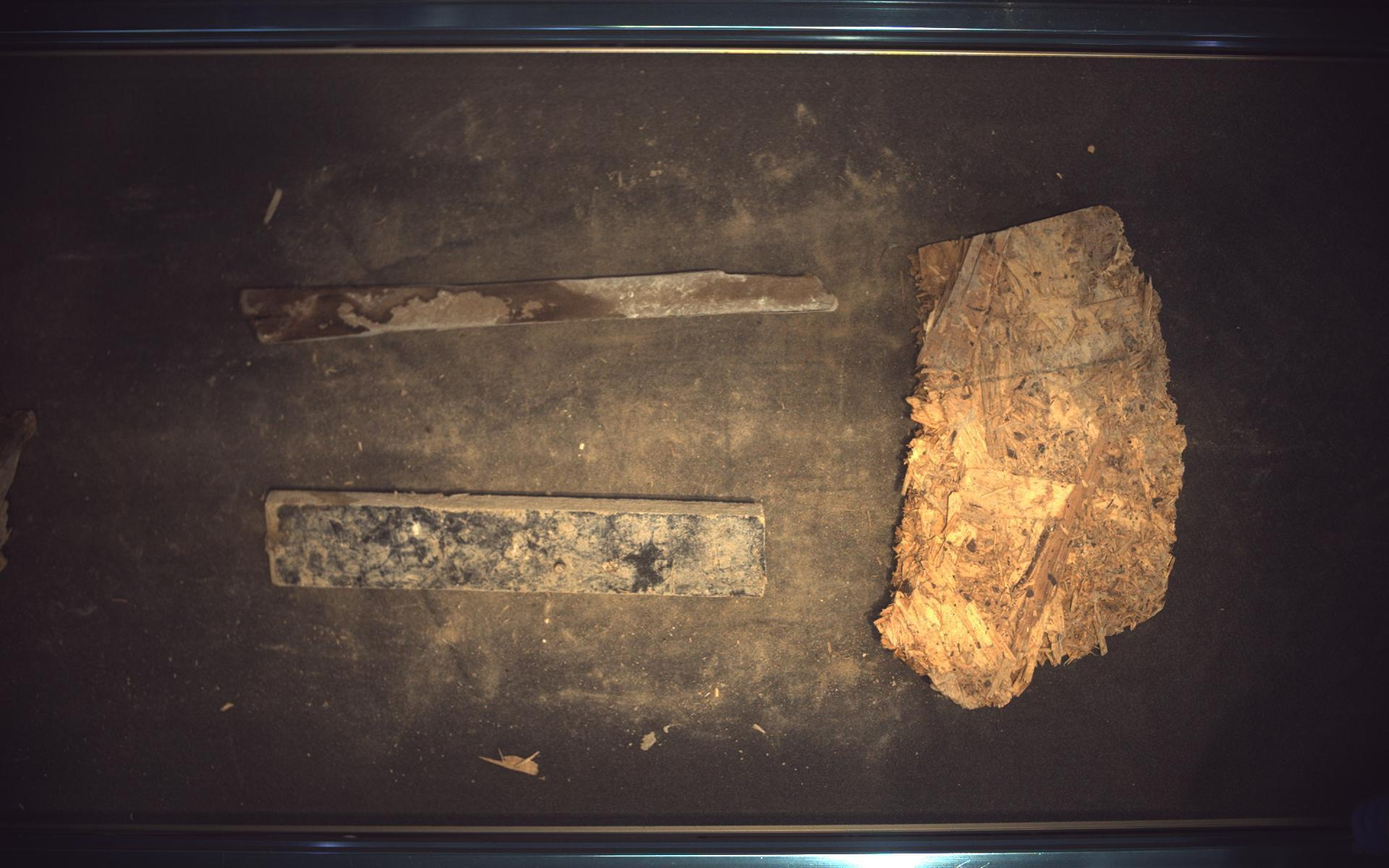wood: (878, 205, 1189, 709), (265, 490, 767, 597), (239, 270, 839, 344)
